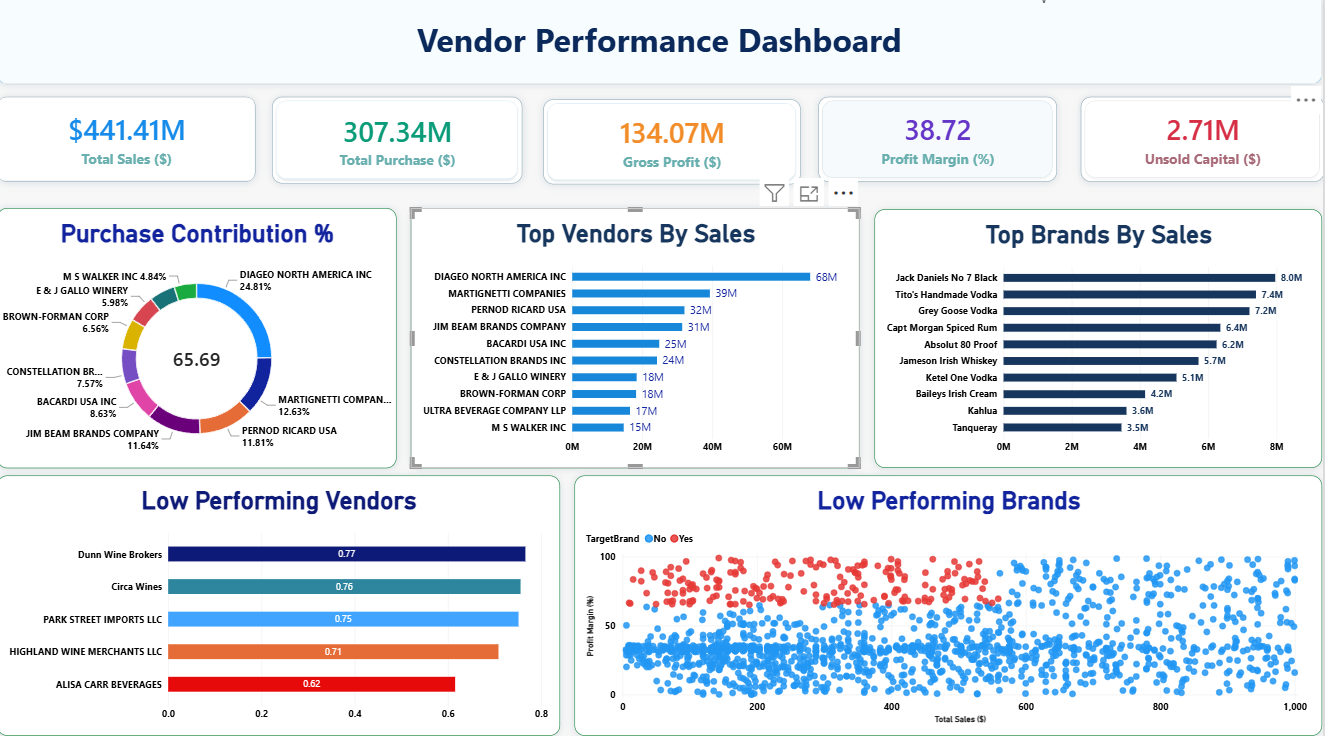

This screenshot's page, from the dashboard's own definition file:
{"tool":"powerbi","page":{"name":"Page 1","canvas":[1920,1080],"ordinal":0},"visuals":[{"type":"cardVisual","fields":{"Data":["Sum(vendor_sales_summary.TotalPurchaseDollars)"]},"box":[397.3,150.3,362.3,125.6],"z":0},{"type":"cardVisual","fields":{"Data":["Sum(vendor_sales_summary.GrossProfit)"]},"box":[790.4,154.4,372.8,123.1],"z":1000},{"type":"cardVisual","fields":{"Data":["Avg(vendor_sales_summary.ProfitMargin)"]},"box":[1189.7,150.3,345.6,123.1],"z":2000},{"type":"cardVisual","fields":{"Data":["Sum(vendor_sales_summary.UnsoldCapital)"]},"box":[1568.4,150.3,352.9,123.1],"z":3000},{"type":"cardVisual","fields":{"Data":["Sum(vendor_sales_summary.TotalSalesDollars)"]},"box":[0,150.3,374.6,123.1],"z":4000},{"type":"shape","box":[0,0,1918.4,131.7],"z":5000},{"type":"textbox","box":[1511,0,409,150],"z":6000},{"type":"donutChart","title":"Purchase Contribution %","fields":{"Category":["PurchaseContribution.VendorName"],"Y":["Sum(PurchaseContribution.PurchaseContribution%)"]},"box":[0,310.8,578.4,376.7],"z":7000},{"type":"clusteredBarChart","title":"Top Vendors By Sales","fields":{"Category":["vendor_sales_summary.VendorName"],"Y":["Sum(vendor_sales_summary.TotalSalesDollars)"]},"box":[599,310.8,650.4,376.7],"z":8000},{"type":"clusteredBarChart","title":"Top Brands By Sales","fields":{"Category":["vendor_sales_summary.Description"],"Y":["Sum(vendor_sales_summary.TotalSalesDollars)"]},"box":[1270,312.9,648.4,374.6],"z":9000},{"type":"clusteredBarChart","title":"Low Performing Vendors","fields":{"Category":["LowTurnoverVendor.VendorName"],"Y":["Sum(LowTurnoverVendor.AvgStockTurnover)"]},"box":[0,697.8,815.1,376.7],"z":9001},{"type":"scatterChart","title":"Low Performing Brands","fields":{"Category":["BrandPerformance.Description"],"Series":["BrandPerformance.TargetBrand"],"X":["Sum(BrandPerformance.TotalSales)"],"Y":["Avg(BrandPerformance.AvgProfitMargin)"]},"box":[835.7,697.8,1082.7,376.7],"z":9002}]}

Visuals, with their boxes in screenshot pixels (x1, y1, x2, y2), scaled from the page's 1920x1080 canvas onto the 1325x736 screenshot:
cardVisual - Sum(vendor_sales_summary.TotalPurchaseDollars): BBox(274, 102, 524, 188)
cardVisual - Sum(vendor_sales_summary.GrossProfit): BBox(545, 105, 803, 189)
cardVisual - Avg(vendor_sales_summary.ProfitMargin): BBox(821, 102, 1060, 186)
cardVisual - Sum(vendor_sales_summary.UnsoldCapital): BBox(1082, 102, 1324, 186)
cardVisual - Sum(vendor_sales_summary.TotalSalesDollars): BBox(0, 102, 259, 186)
shape: BBox(0, 0, 1324, 90)
textbox: BBox(1043, 0, 1324, 102)
"Purchase Contribution %" donutChart: BBox(0, 212, 399, 469)
"Top Vendors By Sales" clusteredBarChart: BBox(413, 212, 862, 469)
"Top Brands By Sales" clusteredBarChart: BBox(876, 213, 1324, 469)
"Low Performing Vendors" clusteredBarChart: BBox(0, 476, 563, 732)
"Low Performing Brands" scatterChart: BBox(577, 476, 1324, 732)
